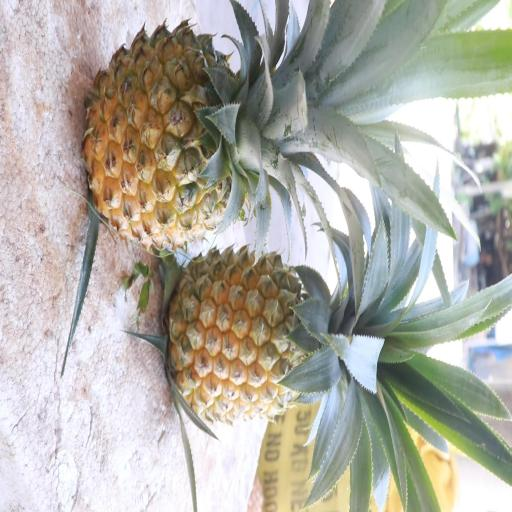Pineapple - v8 v1: (77, 16, 324, 253), (162, 240, 394, 430)
